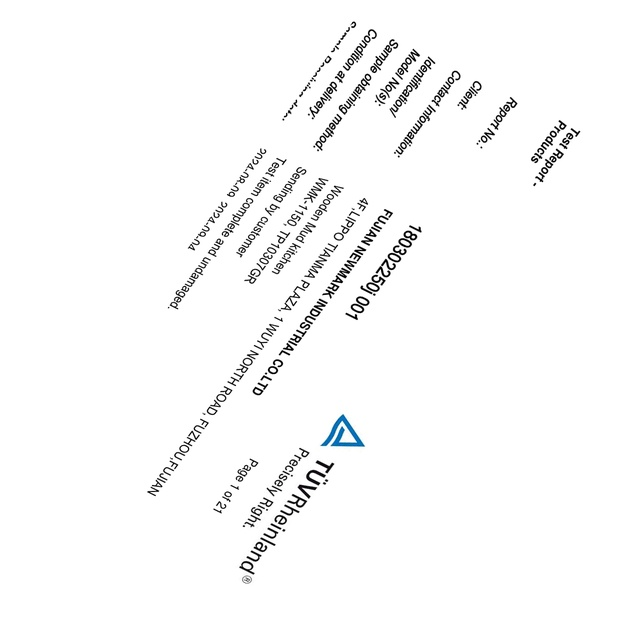tuv_rheinland: (238, 410, 368, 589)
